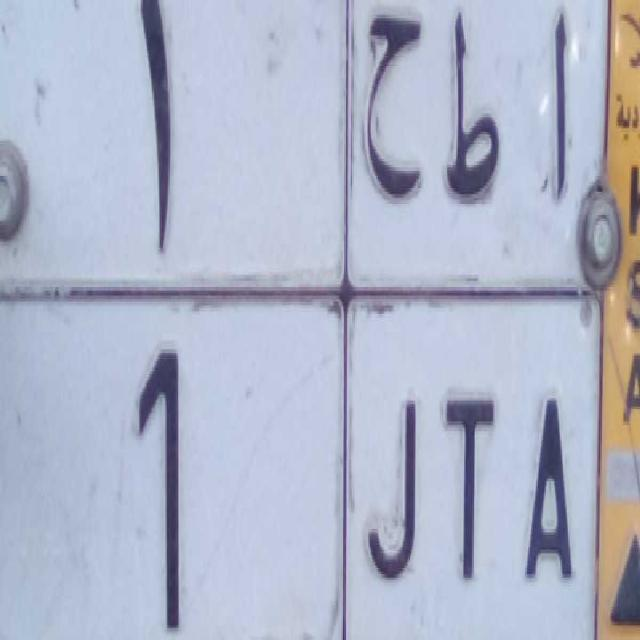license_plate: (0, 273, 601, 640)
